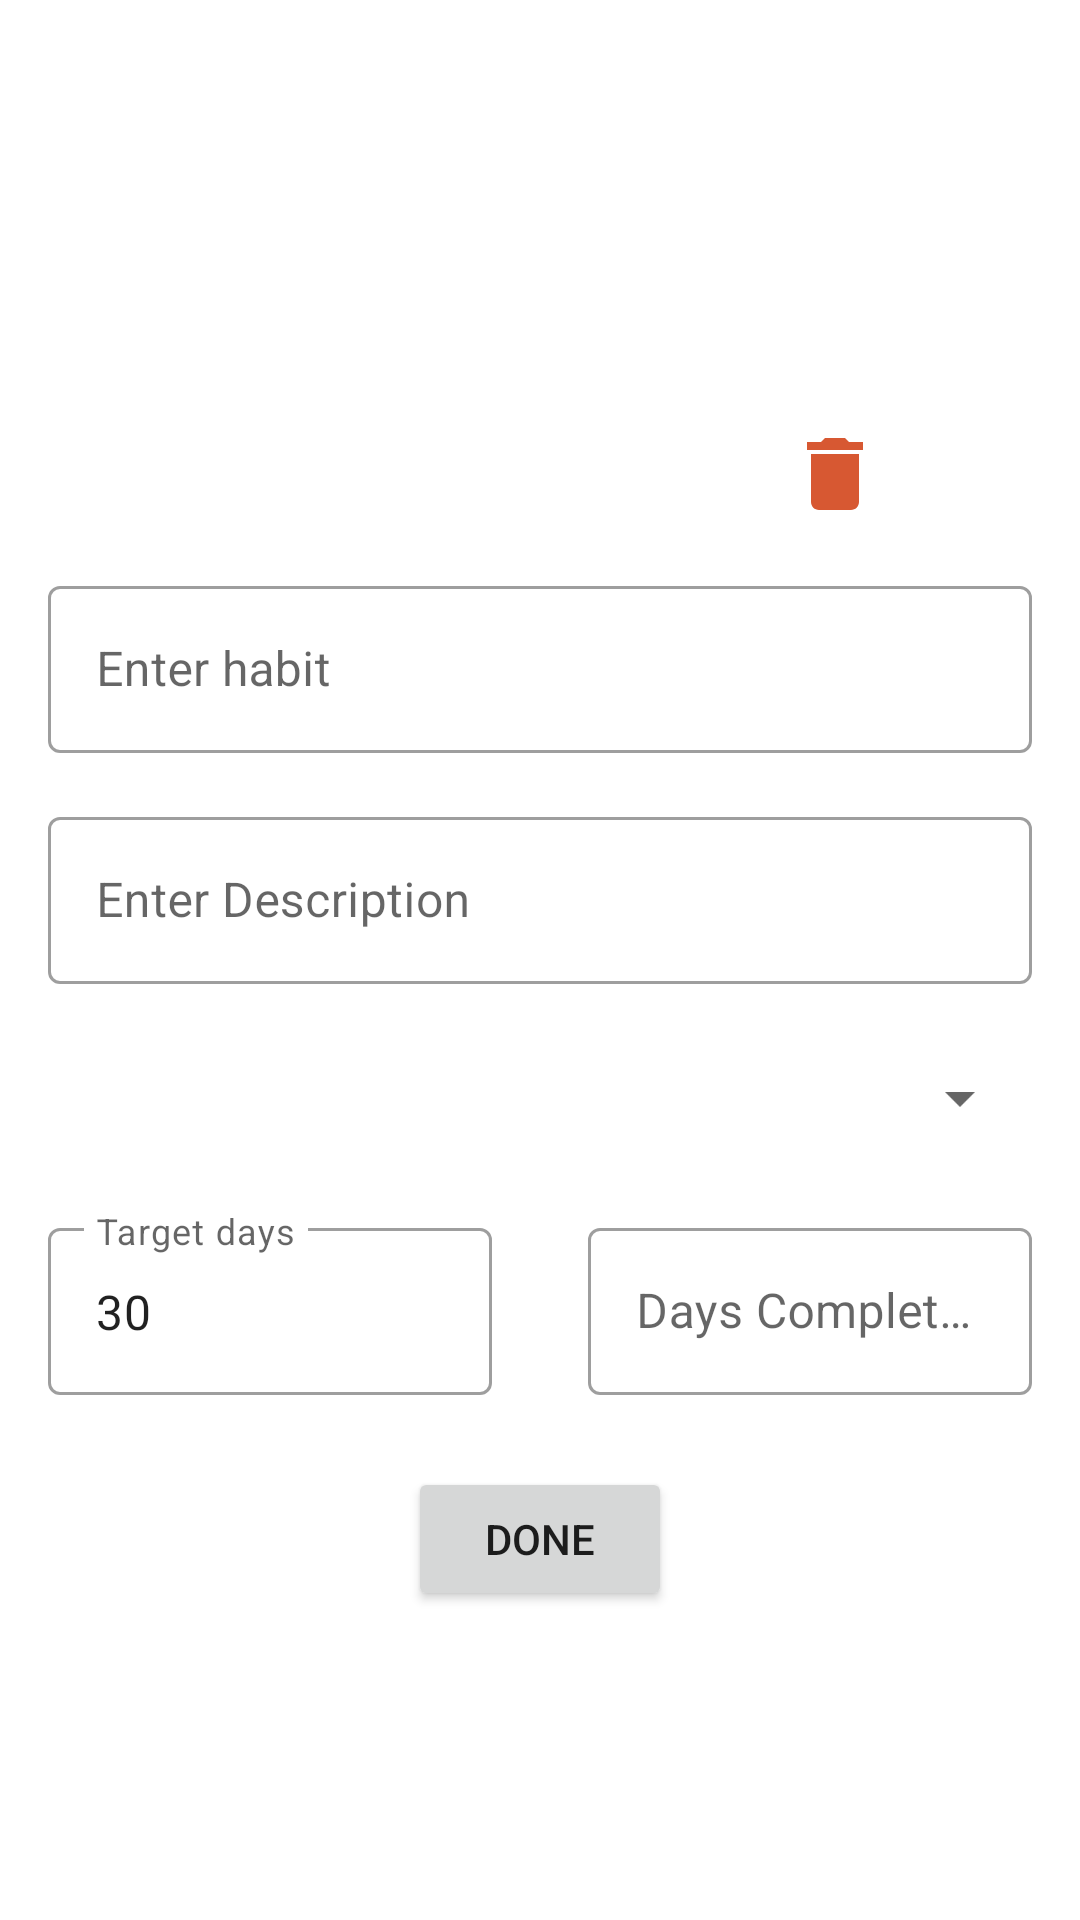

Icons on this 1080 x 1920 Android screen, each with the point to tap as point (x, y):
delete: point (835, 474)
